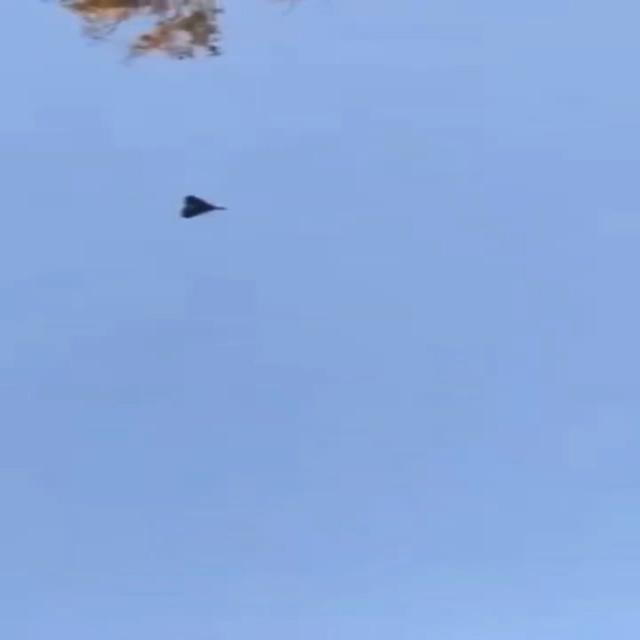drone: (169, 192, 236, 222)
